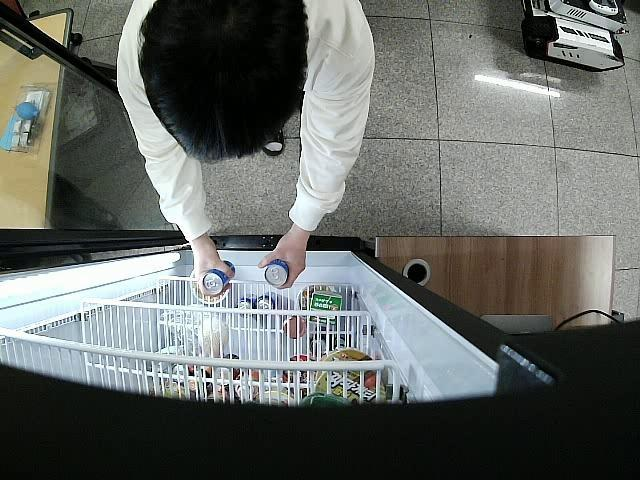15_letsbe: (202, 260, 236, 294), (265, 260, 289, 289)
